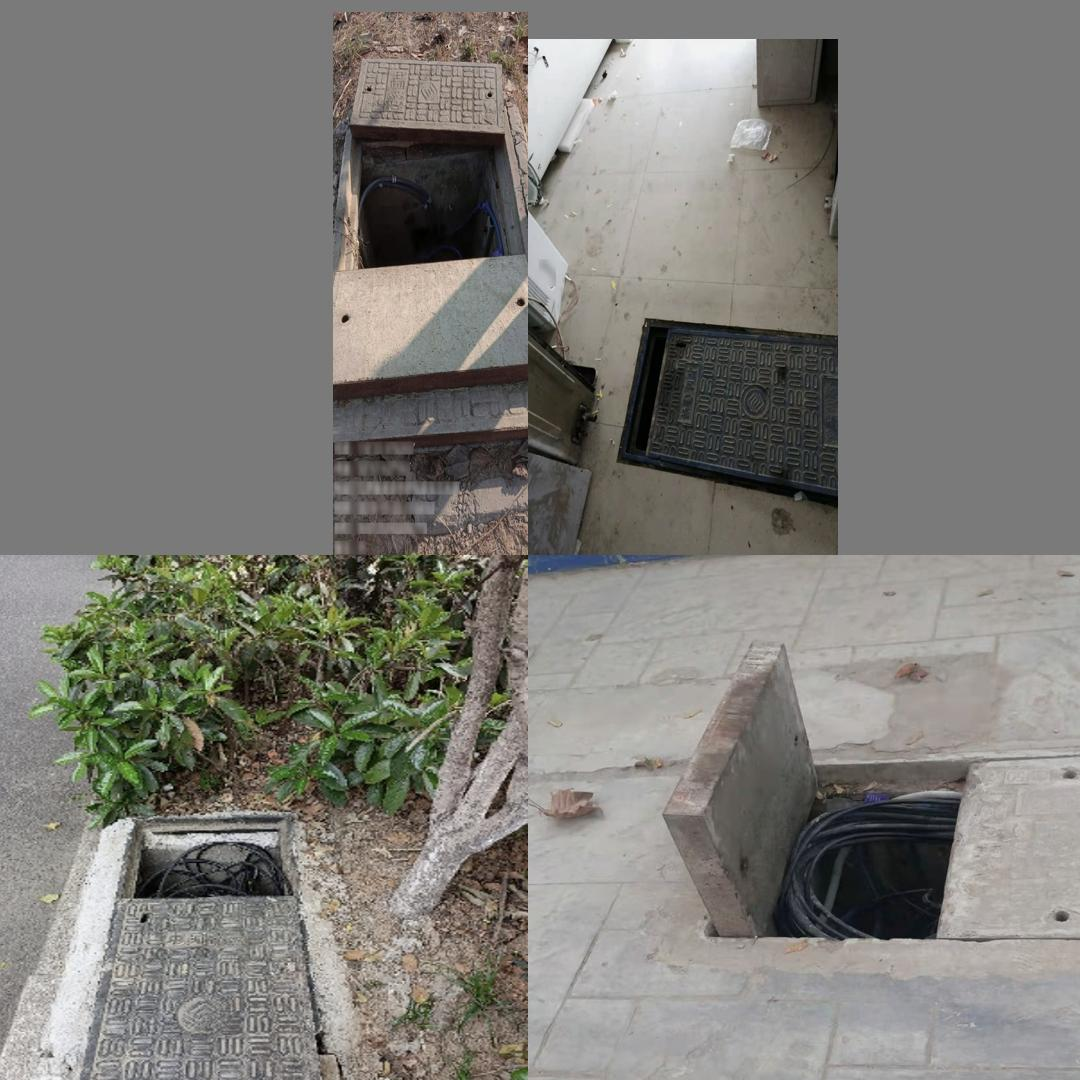uncovered: (667, 640, 1080, 940), (40, 813, 363, 1080), (333, 54, 528, 446), (615, 317, 835, 511)
